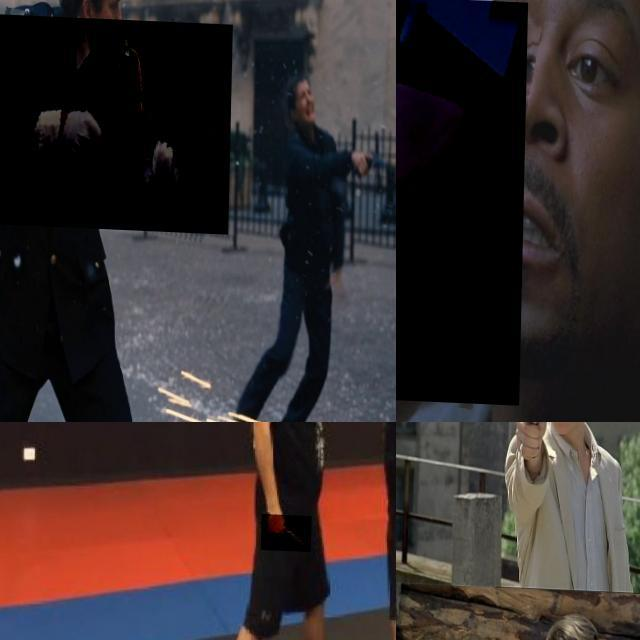-: (263, 512, 314, 548)
gun-knife-thesis - v11 Yolov5 augmented: (396, 0, 528, 402), (0, 12, 233, 230), (515, 422, 542, 464), (396, 422, 417, 470)
